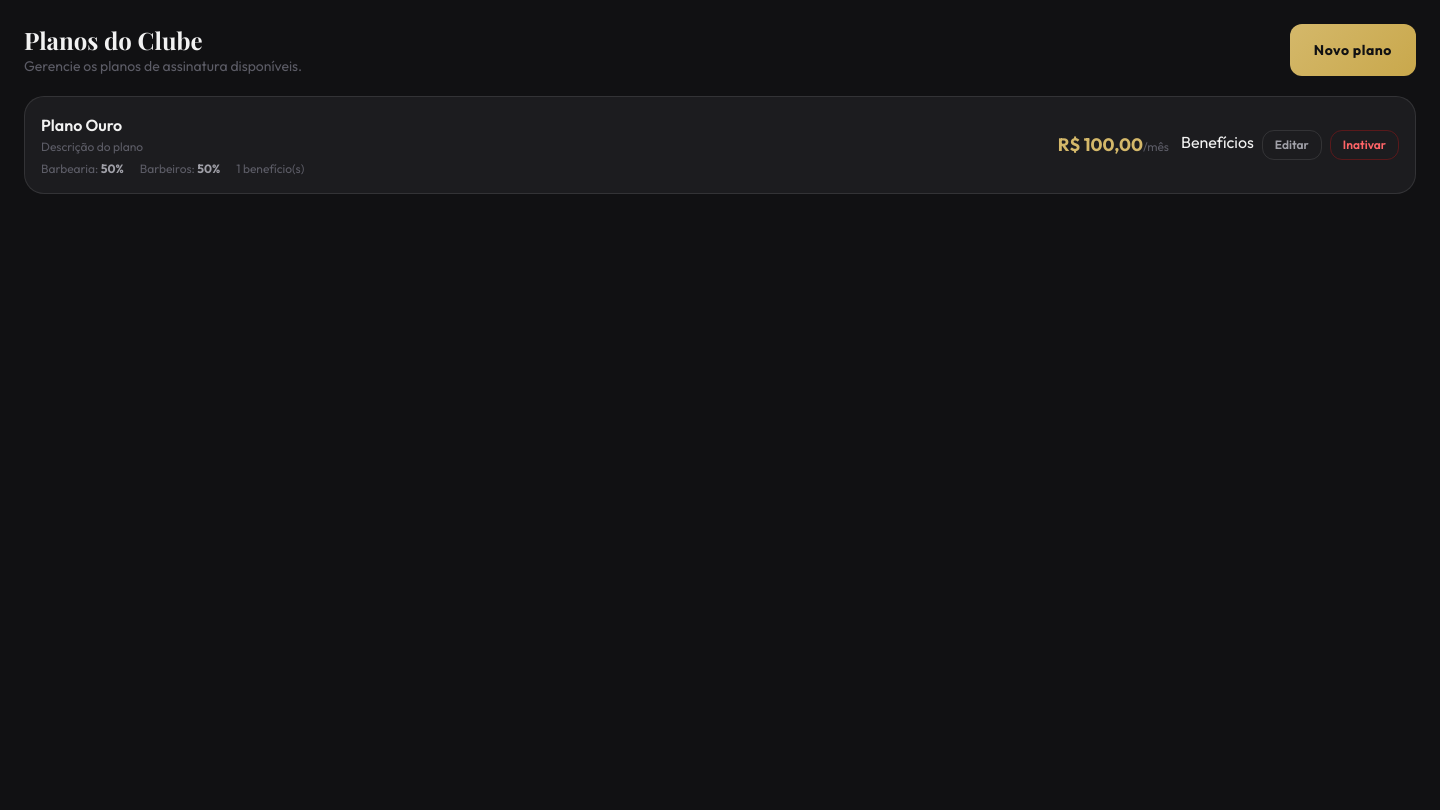
Test: UI de Cadastro/Edição Simplificada de Planos do Clube › 2. Edição de plano existente com benefícios configurados e tratamento de AUDIT_LOCK
Expected: the text "Plano Ouro" is shown, top-left (41, 113), bottom-right (122, 137)
Step 1. Click the button "Editar" → click(1292, 145), box top-left (1262, 130), bottom-right (1322, 160)
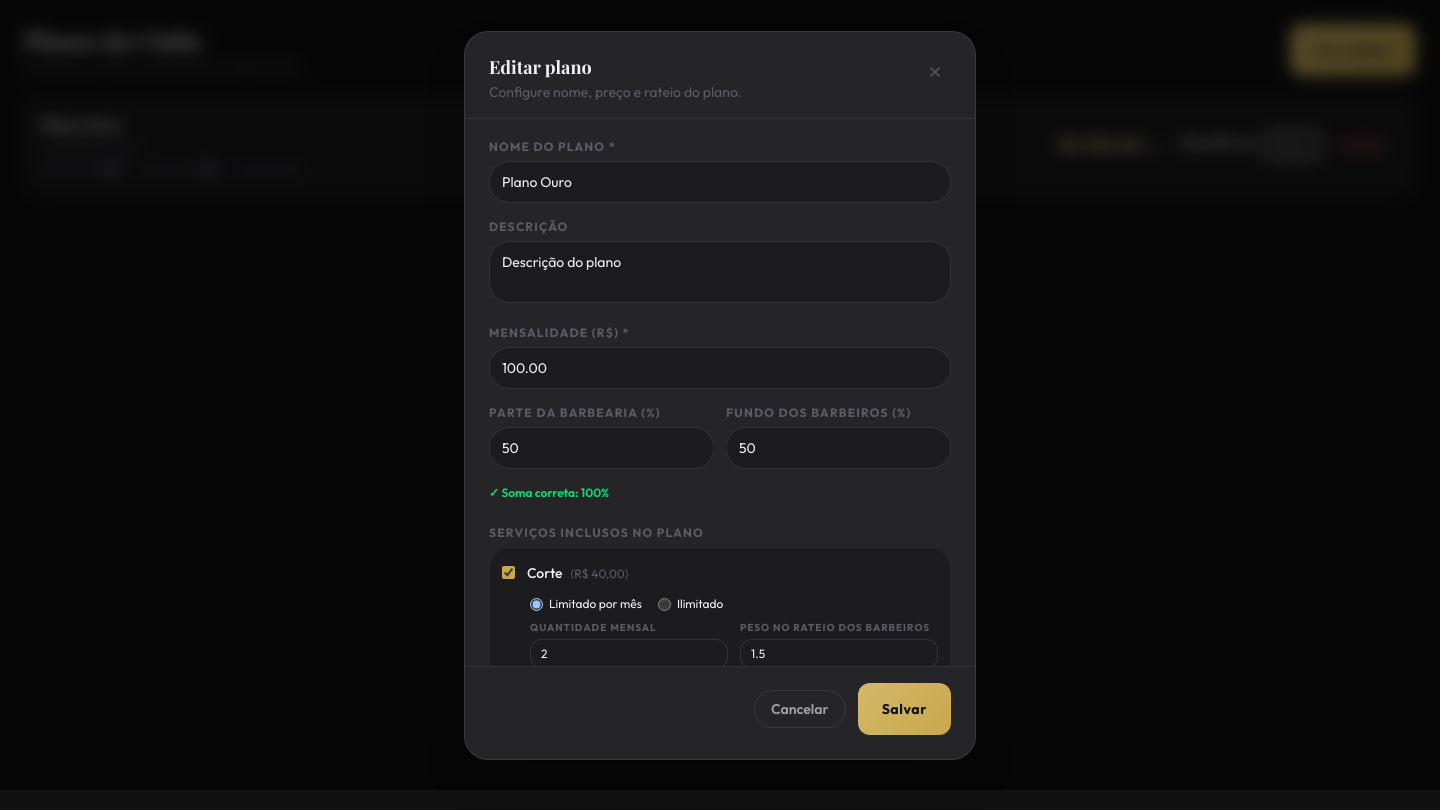
Result: the checkbox titled "Corte" is checked
Result: the number field titled "Quantidade mensal" holds "2" at top-left (530, 639), bottom-right (728, 666)
Result: the number field titled "Peso no rateio dos barbeiros" holds "1.5" at top-left (740, 639), bottom-right (938, 666)
Step 2. Click the checkbox titled "Corte" → click(508, 572), box top-left (502, 566), bottom-right (515, 578)
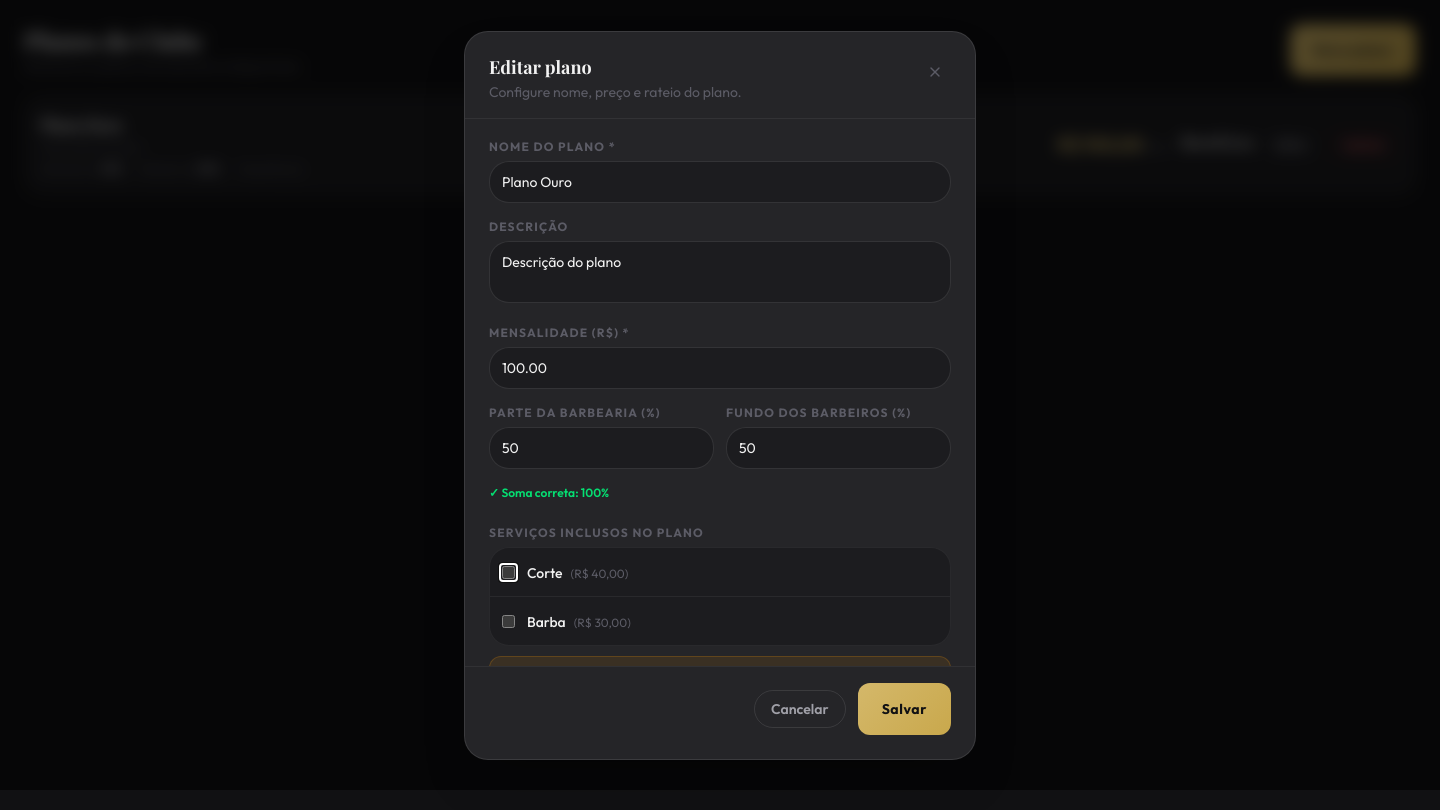
Step 3. Click the button "Salvar" → click(904, 708), box top-left (858, 682), bottom-right (951, 734)
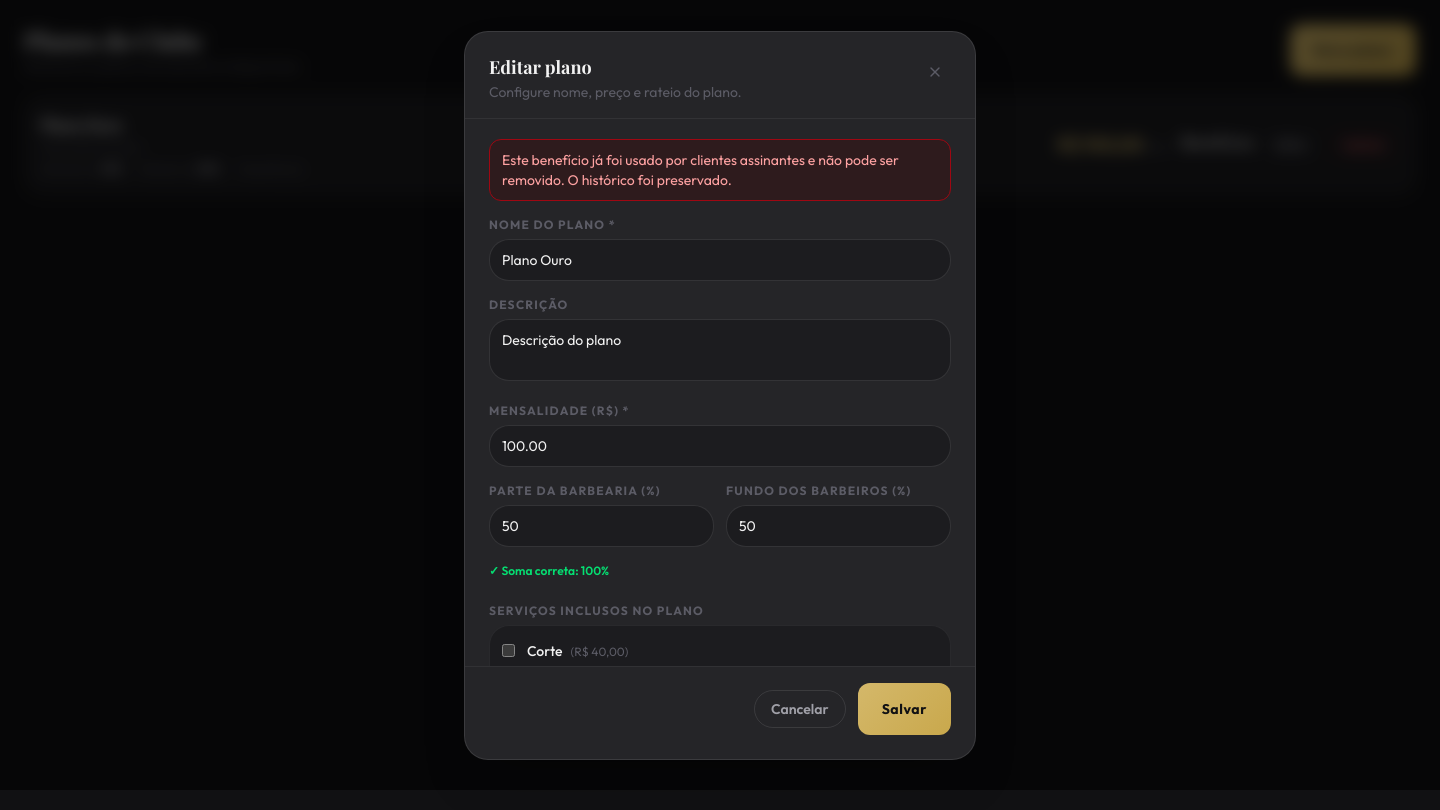
Result: the text "Este benefício já foi usado por clientes assinantes e não pode ser removido" is shown at top-left (502, 151), bottom-right (899, 189)
